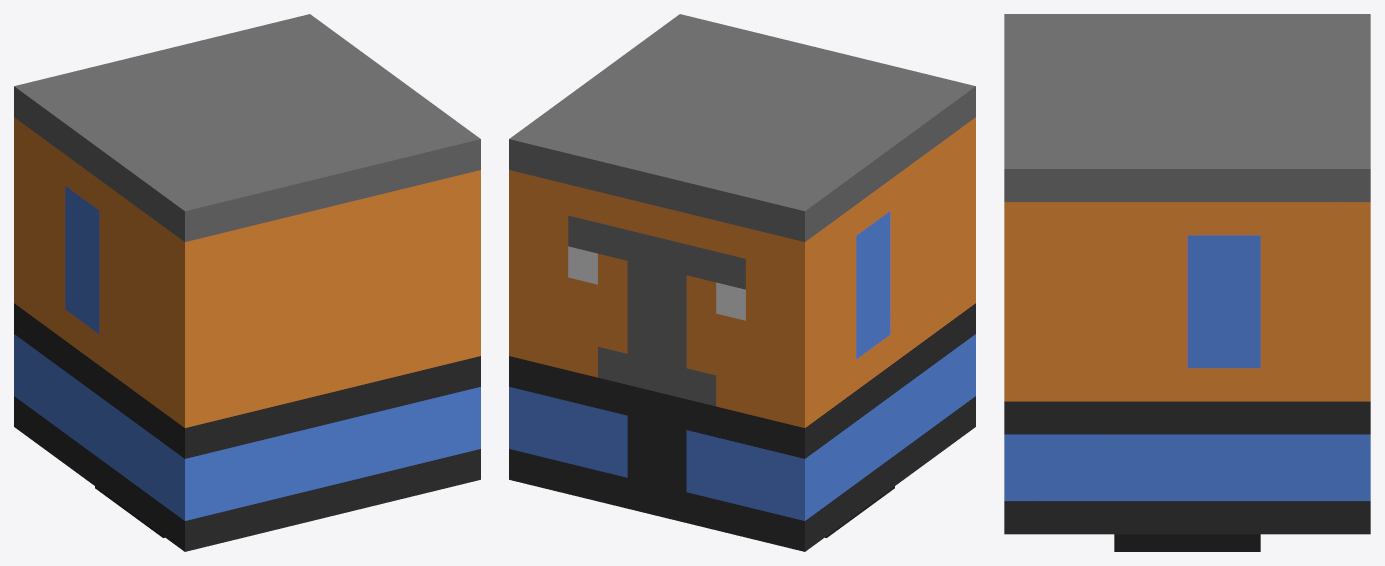
Rendered from Character_1.fbx.
The picture shows the model from 3 angles, left to right: view 1: azimuth 30°, elevation 25°; view 2: azimuth 150°, elevation 25°; view 3: azimuth 270°, elevation 25°; orthographic projection. The views are drawn at different scales.
Visible parts, largest first — view 1: Character_1; view 2: Character_1; view 3: Character_1.
Boxes of the visible parts, box(x1,y1,x2,y2) form: Character_1: box(14, 14, 480, 551); Character_1: box(509, 14, 975, 551); Character_1: box(1004, 14, 1370, 551).
Size of the model in its own units: 10 by 12 by 10.
Materials: 1 (1 with a texture image).
